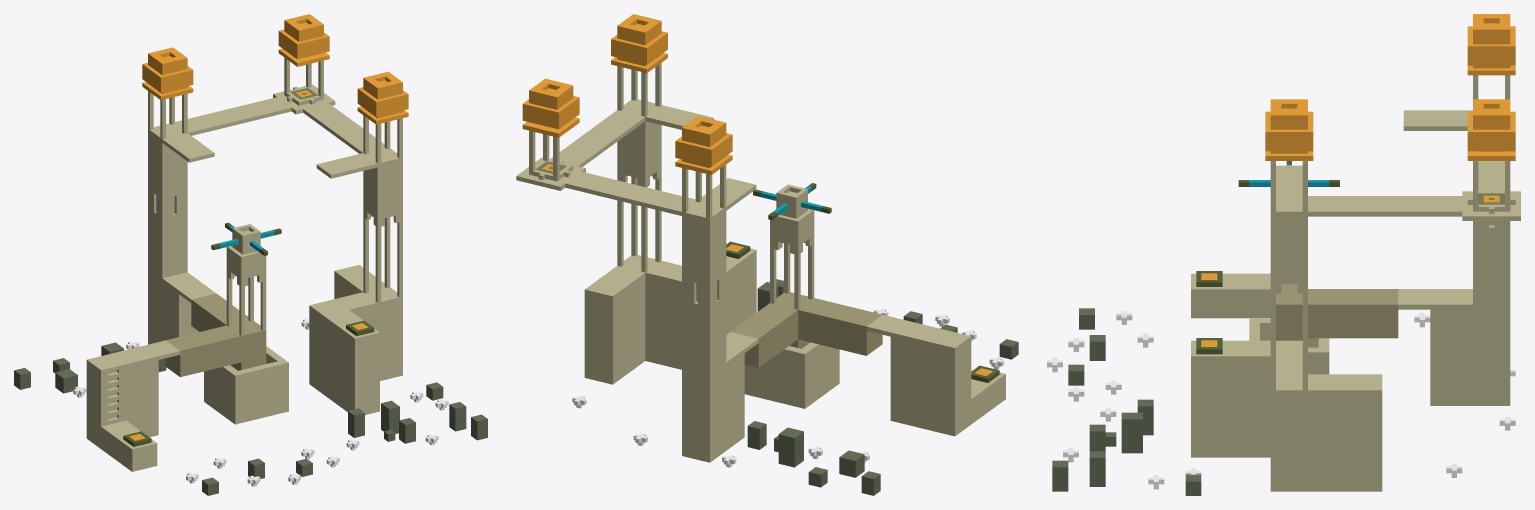
File: house.obj
3 views of the same model, side by side, from view 1: azimuth 30°, elevation 25°; view 2: azimuth 150°, elevation 25°; view 3: azimuth 270°, elevation 25° (orthographic). The views are drawn at different scales.
Size of the model in its own units: 8.6 by 7.8 by 8.9.
1 material, 1 textured.
